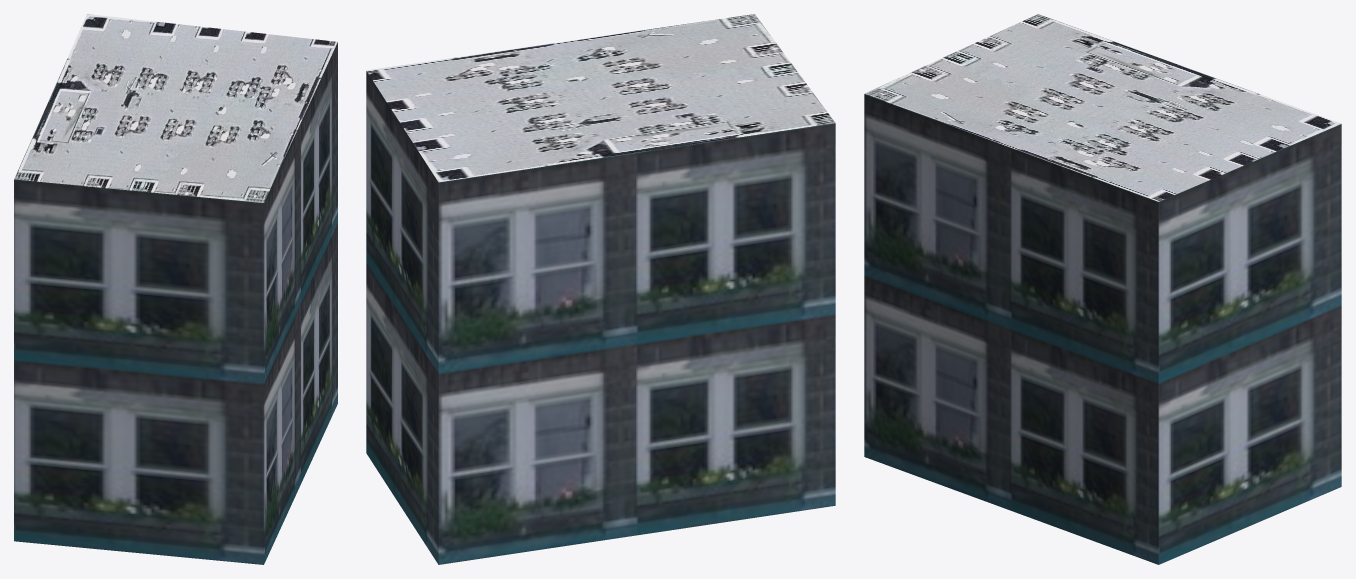
File: ResTex__4904.fbx
The picture shows the model from 3 angles, left to right: view 1: azimuth 30°, elevation 25°; view 2: azimuth 150°, elevation 25°; view 3: azimuth 270°, elevation 25°; orthographic projection. The views are drawn at different scales.
Parts seen in each view (by area): view 1: CityEngineMaterial_11_m, CityEngineMaterial_4_m; view 2: CityEngineMaterial_11_m, CityEngineMaterial_4_m; view 3: CityEngineMaterial_11_m, CityEngineMaterial_4_m.
Boxes of the visible parts, x1=… form: CityEngineMaterial_11_m: x1=14, y1=42, x2=337, y2=564; CityEngineMaterial_4_m: x1=14, y1=14, x2=337, y2=202; CityEngineMaterial_11_m: x1=366, y1=71, x2=835, y2=564; CityEngineMaterial_4_m: x1=366, y1=14, x2=835, y2=182; CityEngineMaterial_11_m: x1=864, y1=94, x2=1341, y2=564; CityEngineMaterial_4_m: x1=864, y1=14, x2=1341, y2=201.
Bounding box in the file's own units: 6.66 × 6 × 7.15.
Materials: 2 (2 with a texture image).
